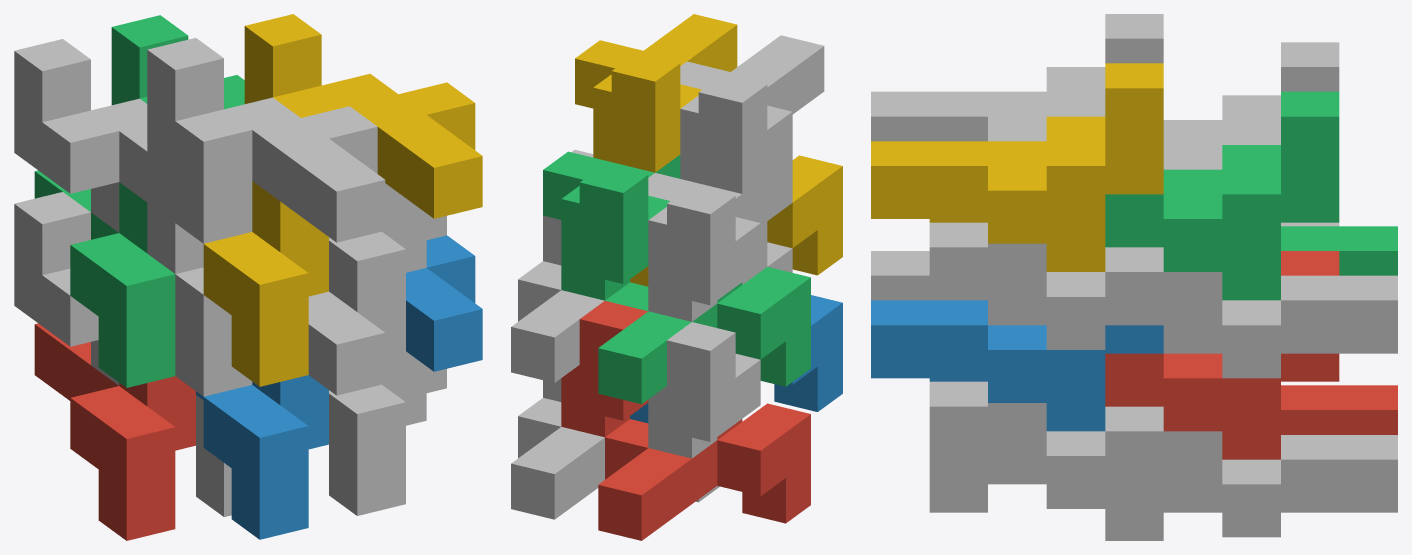
The model's file is tiling.obj.
3 views of the same model, side by side, from view 1: azimuth 30°, elevation 25°; view 2: azimuth 150°, elevation 25°; view 3: azimuth 270°, elevation 25° (orthographic). The views are drawn at different scales.
Visible parts, largest first — view 1: copy_2_domain_4, copy_2_domain_3, copy_2_domain_8, copy_1_domain_1, copy_1_domain_4, copy_1_domain_2, copy_1_domain_3, copy_2_domain_1, copy_2_domain_2, copy_1_domain_6, copy_1_domain_8, copy_2_domain_6 (+2 smaller); view 2: copy_1_domain_1, copy_2_domain_4, copy_2_domain_8, copy_2_domain_3, copy_1_domain_3, copy_2_domain_7, copy_2_domain_1, copy_1_domain_5, copy_1_domain_7, copy_1_domain_4, copy_2_domain_5, copy_1_domain_2 (+2 smaller); view 3: copy_2_domain_8, copy_2_domain_7, copy_1_domain_6, copy_1_domain_8, copy_2_domain_6, copy_1_domain_5, copy_2_domain_5, copy_1_domain_7, copy_2_domain_4, copy_2_domain_3, copy_1_domain_1, copy_1_domain_3 (+1 smaller).
Part boxes in pixels (left/top/right/bottom): copy_2_domain_4: left=147, top=38, right=385, bottom=242; copy_2_domain_3: left=14, top=39, right=252, bottom=243; copy_2_domain_8: left=244, top=14, right=482, bottom=218; copy_1_domain_1: left=34, top=323, right=195, bottom=540; copy_1_domain_4: left=203, top=181, right=328, bottom=386; copy_1_domain_2: left=196, top=375, right=328, bottom=539; copy_1_domain_3: left=34, top=170, right=175, bottom=387; copy_2_domain_1: left=14, top=192, right=252, bottom=396; copy_2_domain_2: left=147, top=203, right=385, bottom=395; copy_1_domain_6: left=329, top=351, right=446, bottom=515; copy_1_domain_8: left=329, top=183, right=446, bottom=356; copy_2_domain_6: left=406, top=235, right=482, bottom=371; copy_1_domain_1: left=598, top=403, right=810, bottom=540; copy_2_domain_4: left=680, top=35, right=824, bottom=193; copy_2_domain_8: left=575, top=14, right=737, bottom=172; copy_2_domain_3: left=648, top=157, right=792, bottom=321; copy_1_domain_3: left=598, top=267, right=810, bottom=404; copy_2_domain_7: left=543, top=151, right=680, bottom=300; copy_2_domain_1: left=648, top=322, right=760, bottom=458; copy_1_domain_5: left=511, top=398, right=719, bottom=519; copy_1_domain_7: left=511, top=261, right=604, bottom=382; copy_1_domain_4: left=630, top=155, right=842, bottom=286; copy_2_domain_5: left=561, top=301, right=648, bottom=437; copy_1_domain_2: left=630, top=295, right=842, bottom=423; copy_2_domain_8: left=871, top=63, right=1163, bottom=271; copy_2_domain_7: left=1105, top=91, right=1339, bottom=300; copy_1_domain_6: left=929, top=381, right=1222, bottom=512; copy_1_domain_8: left=929, top=222, right=1222, bottom=349; copy_2_domain_6: left=871, top=300, right=1163, bottom=431; copy_1_domain_5: left=1105, top=435, right=1397, bottom=540; copy_2_domain_5: left=1105, top=251, right=1339, bottom=459; copy_1_domain_7: left=1163, top=275, right=1397, bottom=378; copy_2_domain_4: left=871, top=14, right=1163, bottom=141; copy_2_domain_3: left=1163, top=42, right=1339, bottom=169; copy_1_domain_1: left=1281, top=385, right=1397, bottom=434; copy_1_domain_3: left=1281, top=226, right=1397, bottom=275.
Bounding box in the file's own units: 6 × 9 × 9.
